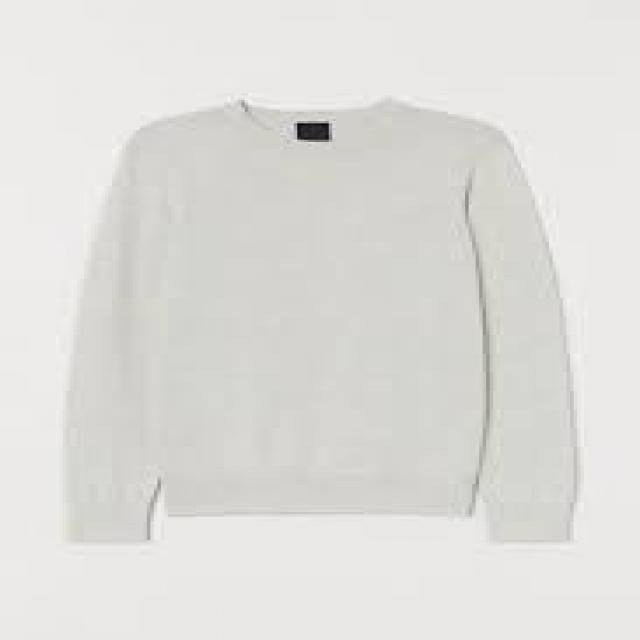plain: (61, 96, 584, 548)
